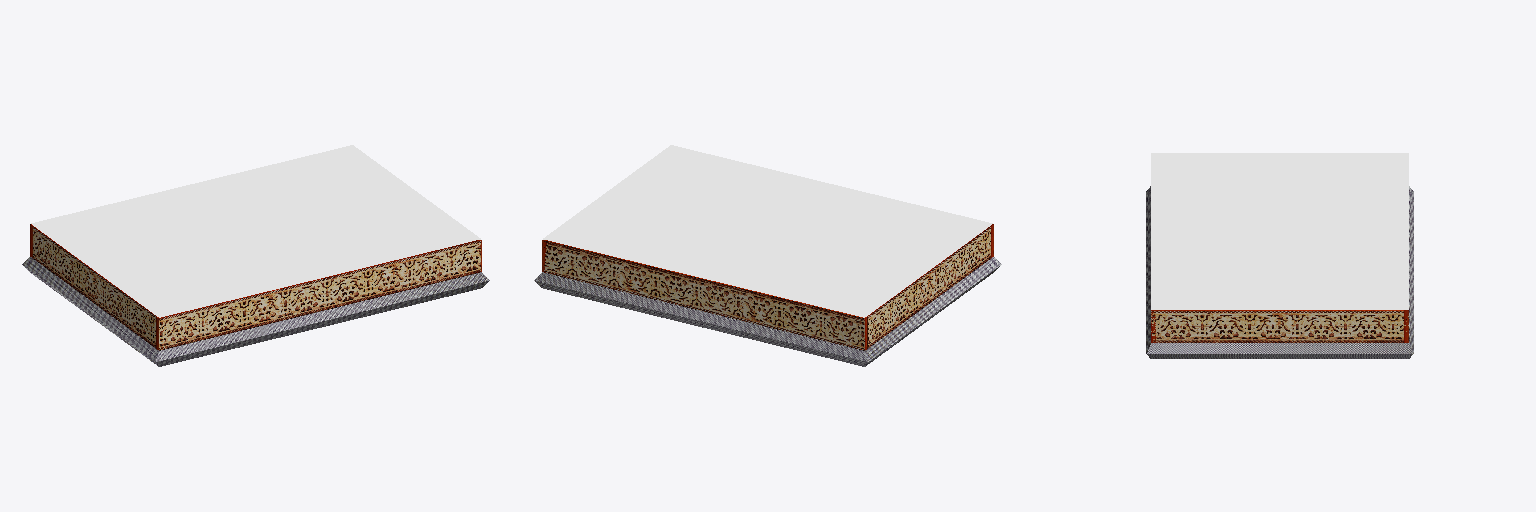
3 views of the same model, side by side, from view 1: azimuth 30°, elevation 25°; view 2: azimuth 150°, elevation 25°; view 3: azimuth 270°, elevation 25° (orthographic).
Visible parts, largest first — view 1: pPlane3, polySurface1, pPlane1; view 2: pPlane3, polySurface1, pPlane1; view 3: pPlane3, polySurface1, pPlane1.
Part boxes in pixels (x1,y1,x2,y2): pPlane3: (31,145,480,317); polySurface1: (30,224,481,350); pPlane1: (22,257,489,366); pPlane3: (543,145,992,317); polySurface1: (542,224,993,350); pPlane1: (534,257,1001,366); pPlane3: (1151,153,1408,309); polySurface1: (1151,310,1408,342); pPlane1: (1146,186,1413,358).
Bounding box in the file's own units: 21.88 × 3.07 × 15.14.
4 materials, 3 textured.